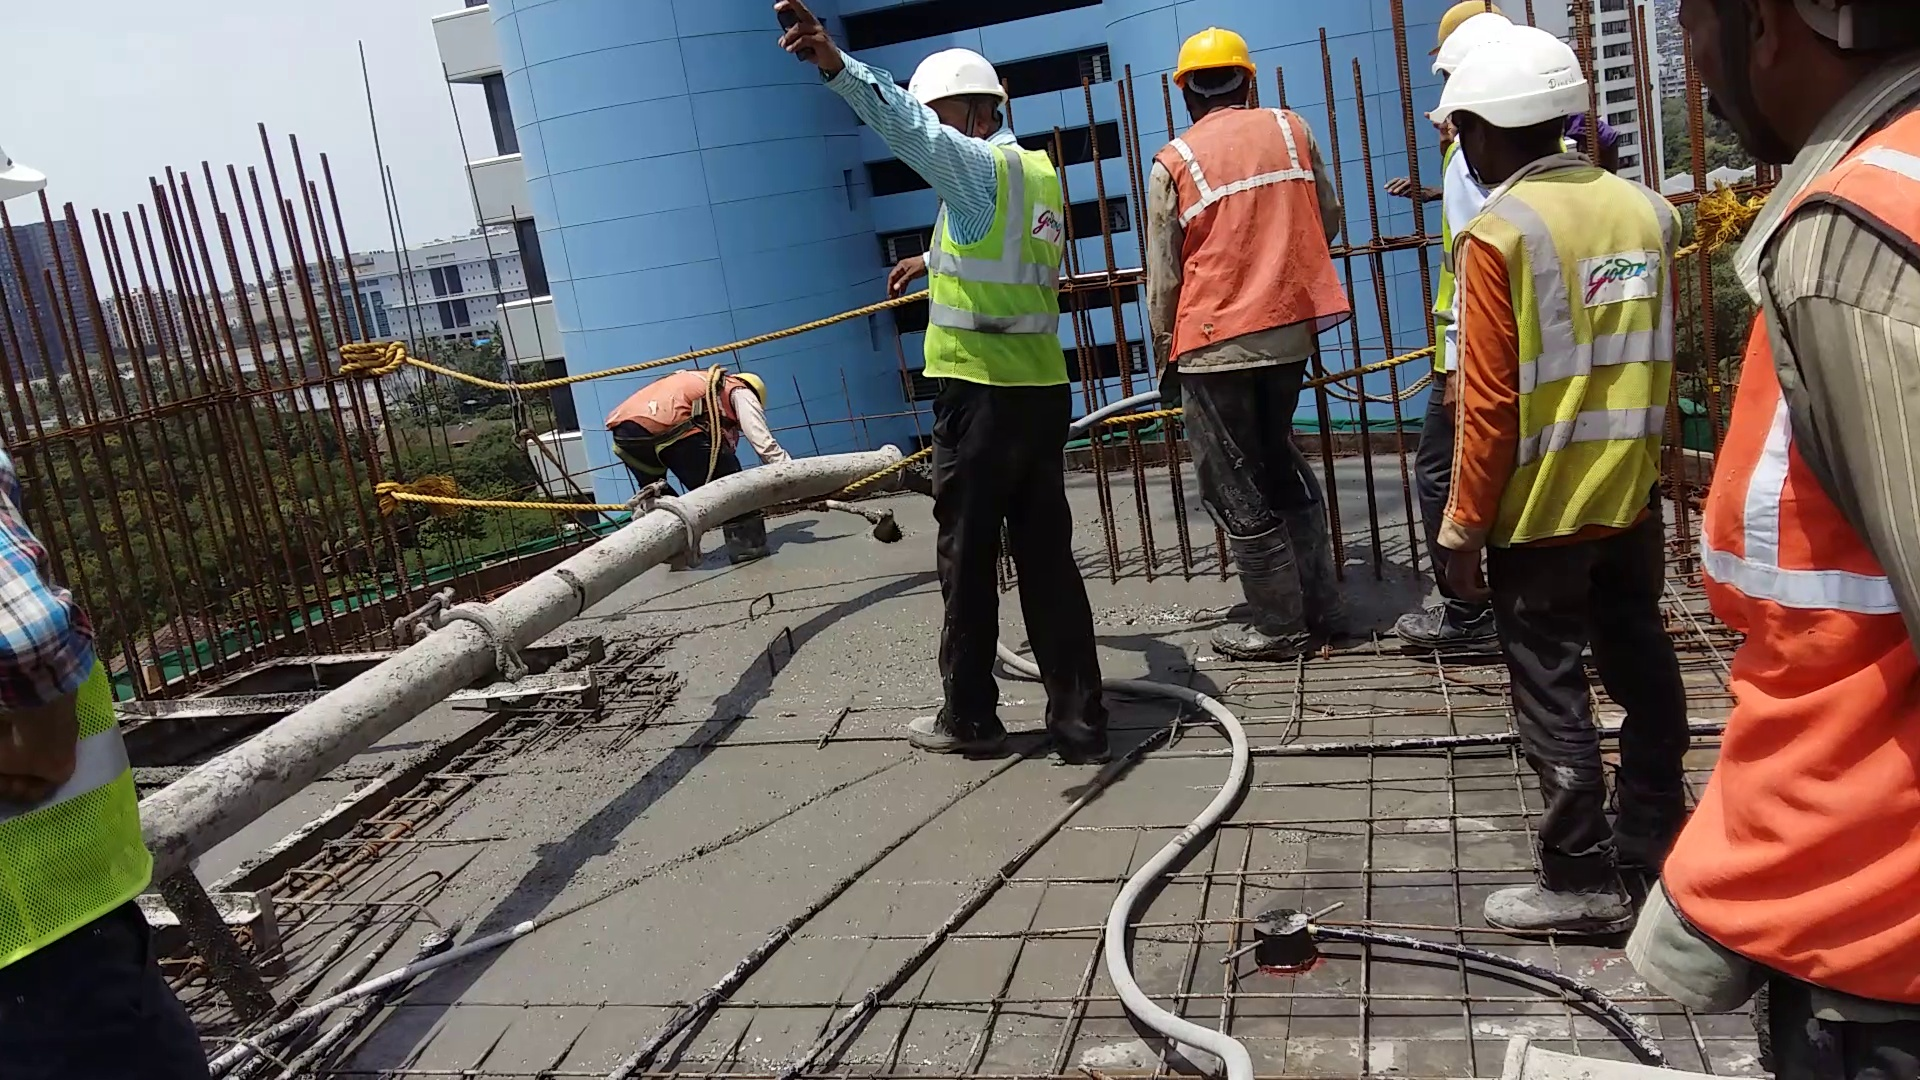SAFE: (1428, 7, 1688, 562), (1158, 15, 1344, 382), (898, 37, 1084, 393)
